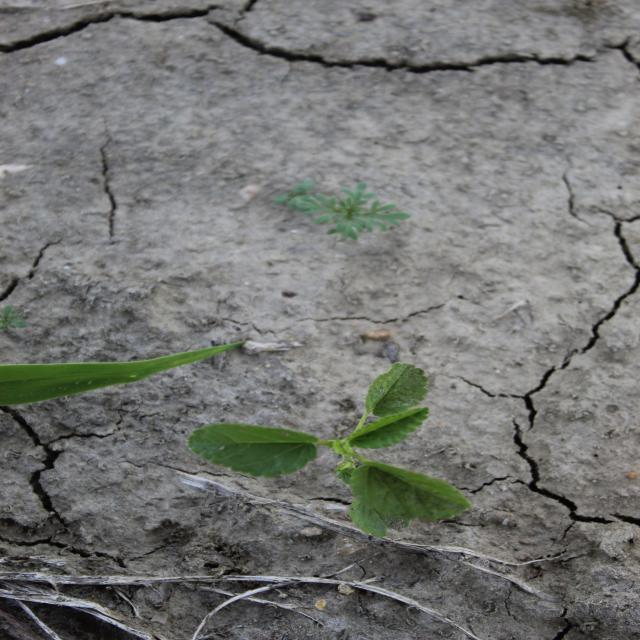PricklySida: (185, 361, 476, 541)
Ragweed: (267, 177, 413, 245)
